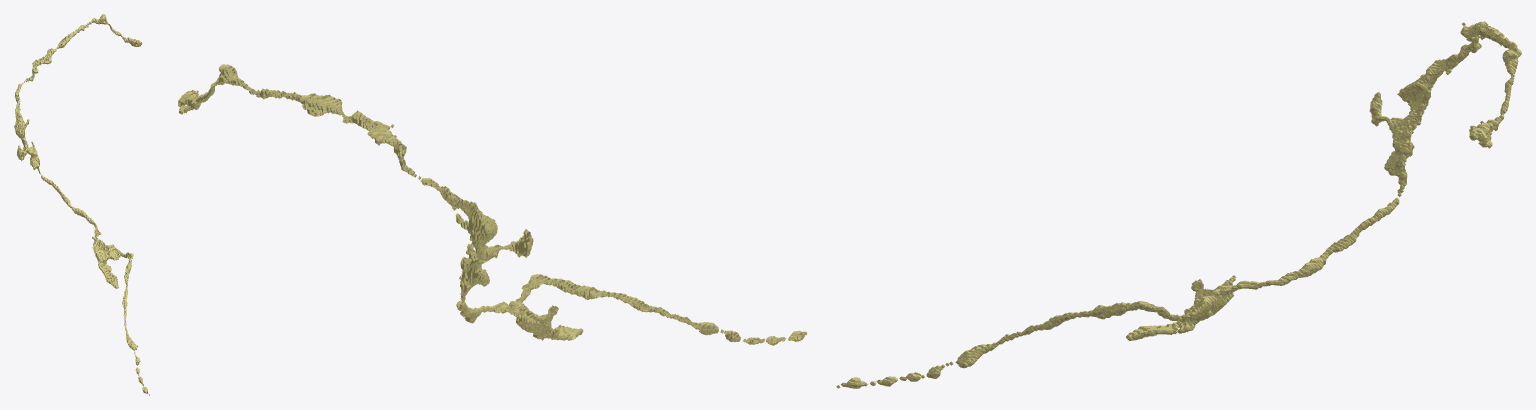
Rendered from SVV_ADAL.gltf.
3 views of the same model, side by side, from view 1: azimuth 30°, elevation 25°; view 2: azimuth 150°, elevation 25°; view 3: azimuth 270°, elevation 25° (orthographic). The views are drawn at different scales.
Visible parts, largest first — view 1: ADAL; view 2: ADAL; view 3: ADAL.
Boxes of the visible parts, x1,y1,x2,y2 form: ADAL: (14,14,149,395); ADAL: (178,64,807,345); ADAL: (836,21,1521,388).
Bounding box in the file's own units: 110087 × 155655 × 211993.
